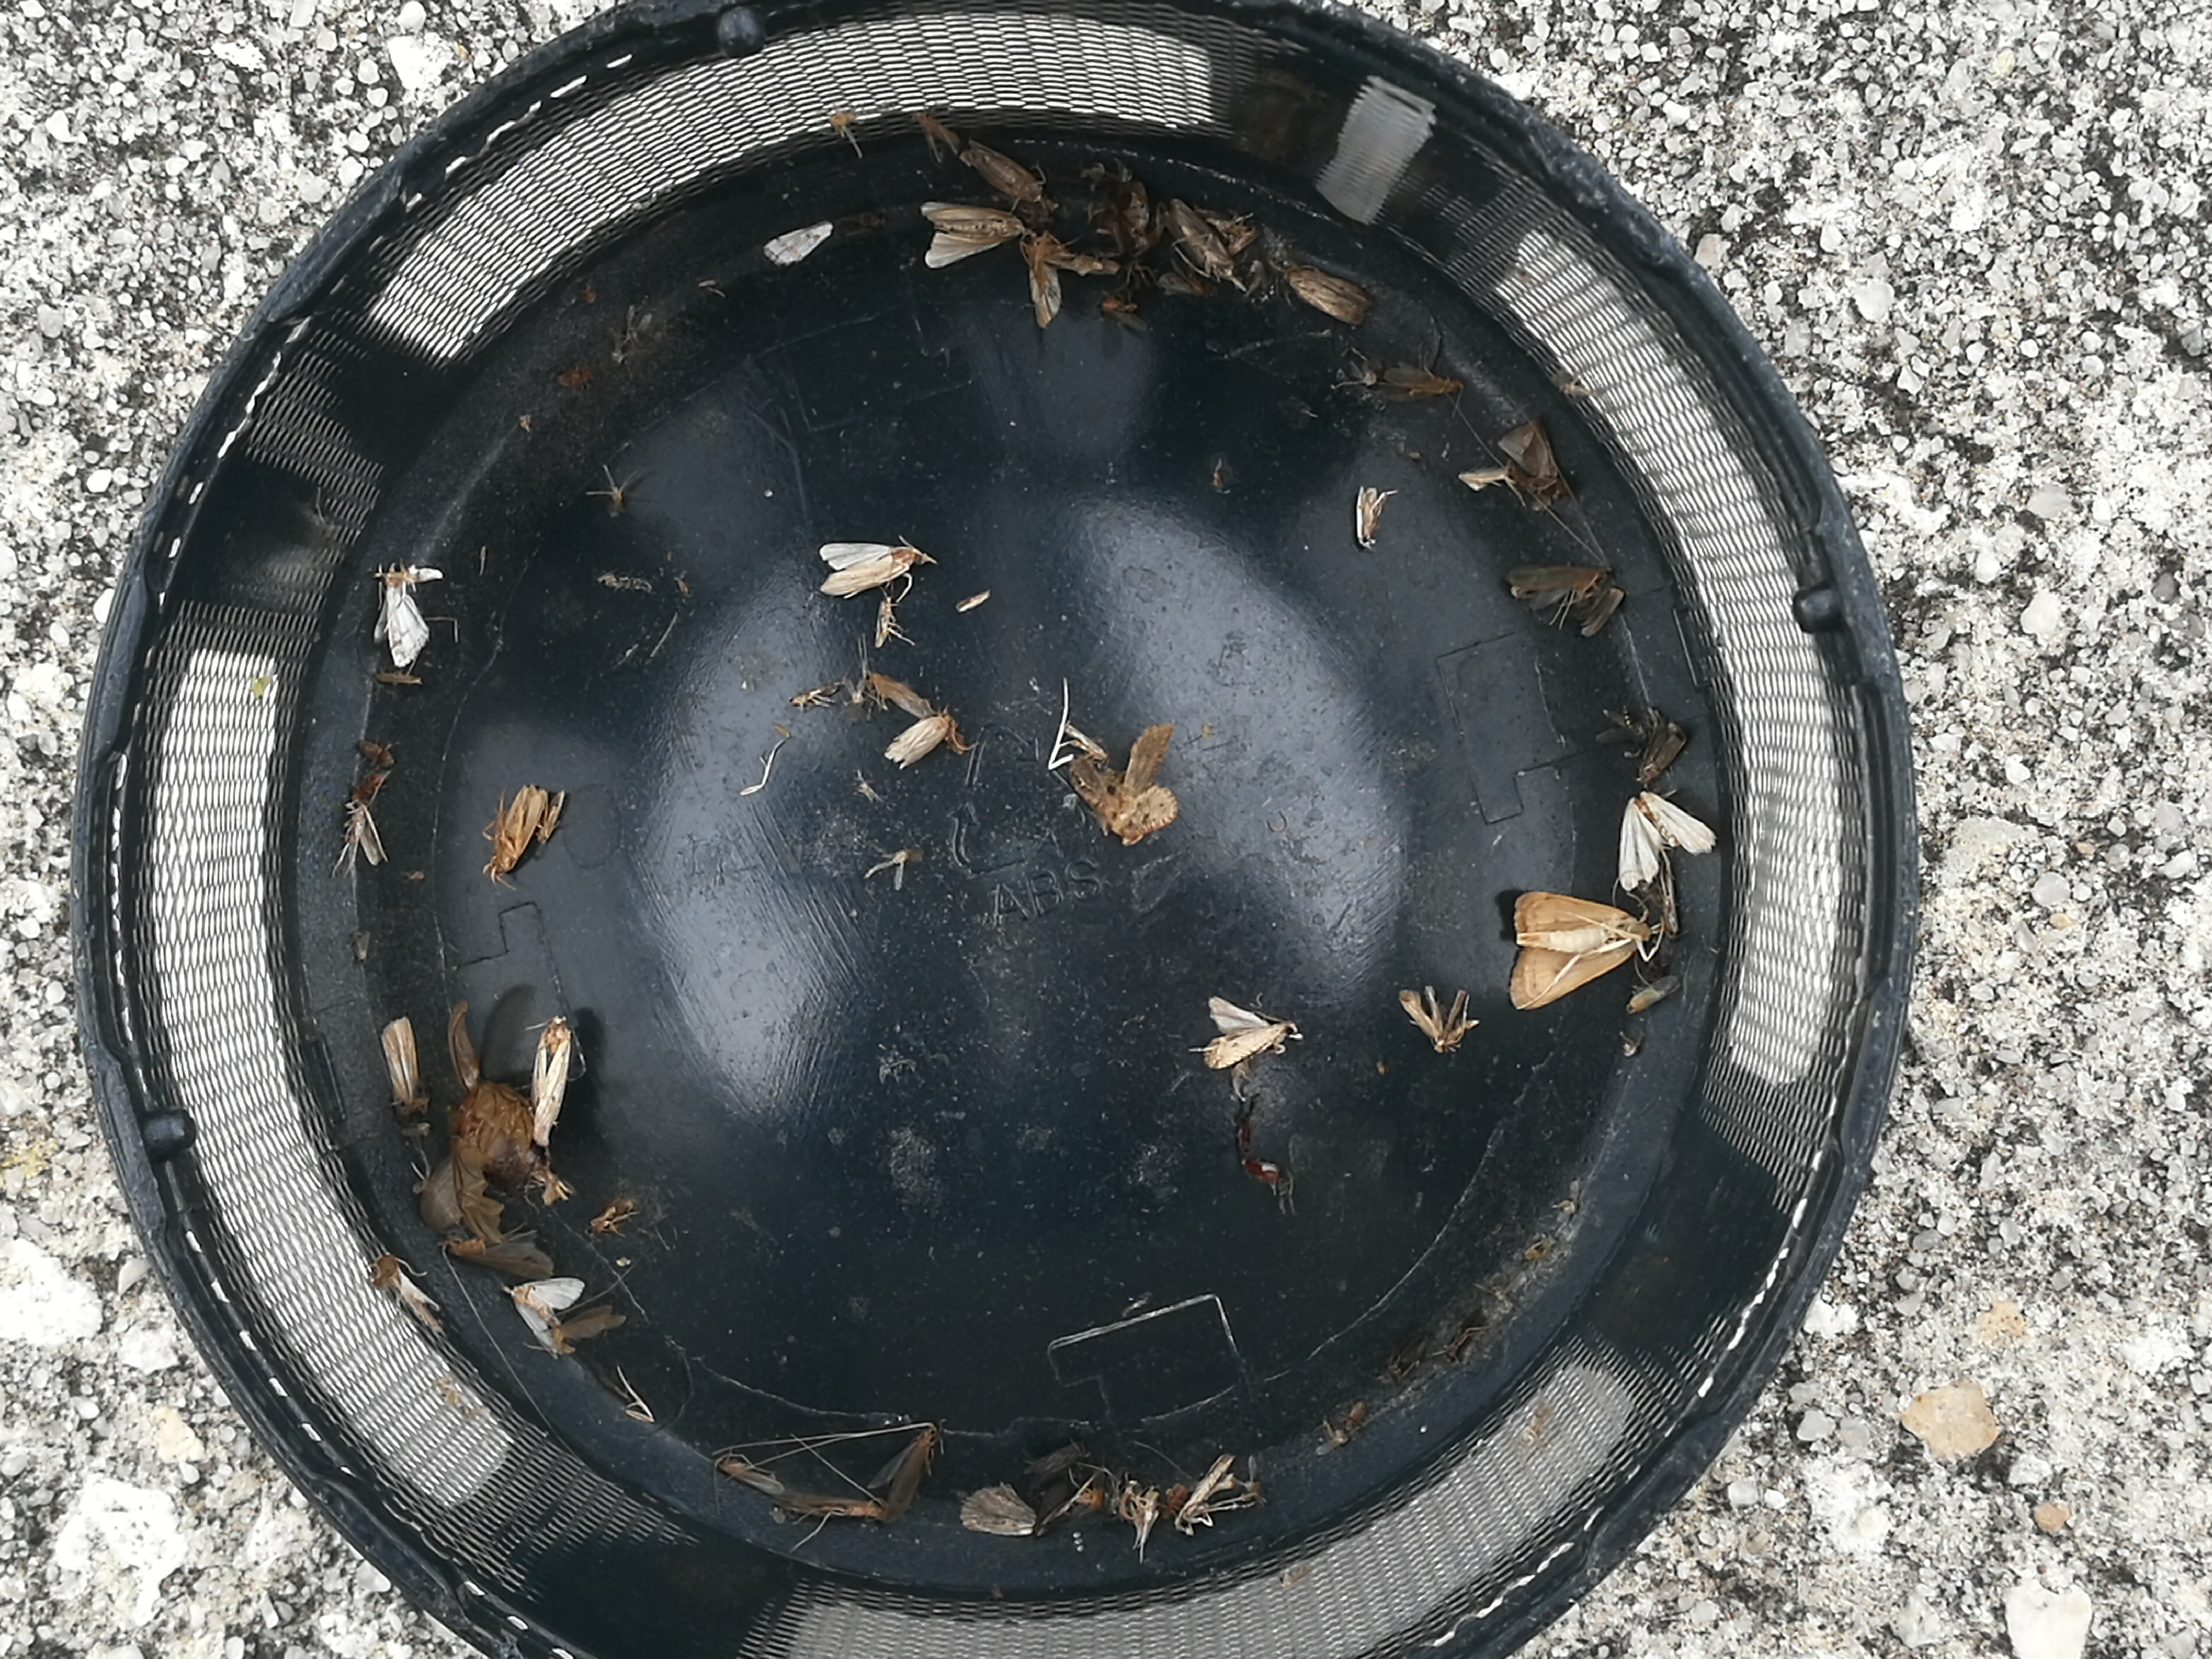beetle: (458, 1082, 533, 1187)
mosquito: (1163, 200, 1237, 281), (873, 1425, 939, 1511), (531, 1016, 571, 1145), (1176, 1453, 1238, 1532), (453, 1236, 556, 1279), (1503, 565, 1609, 606), (970, 143, 1042, 200), (1376, 366, 1460, 401), (1639, 725, 1683, 781), (714, 1459, 784, 1493), (347, 800, 381, 861), (1629, 972, 1683, 1009), (780, 1497, 876, 1516), (1357, 486, 1385, 545)
moth: (1512, 890, 1642, 1006), (1075, 725, 1174, 840), (1620, 793, 1716, 892), (921, 200, 1022, 270), (1207, 999, 1294, 1066), (512, 1277, 582, 1349), (820, 544, 916, 594), (1287, 265, 1369, 321), (387, 566, 427, 667), (495, 786, 540, 871)
